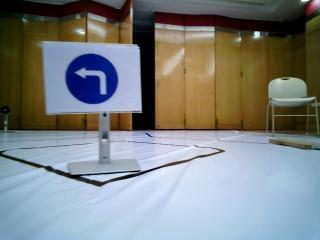left: (46, 40, 133, 107)
